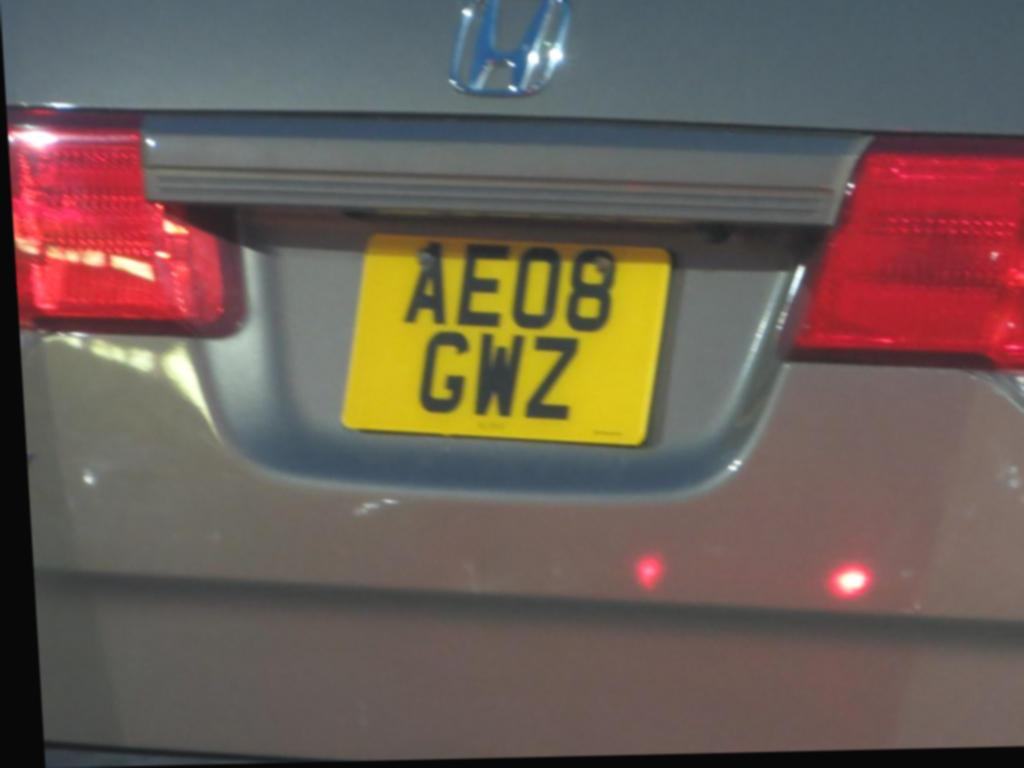License_Plate: (320, 209, 702, 461)
